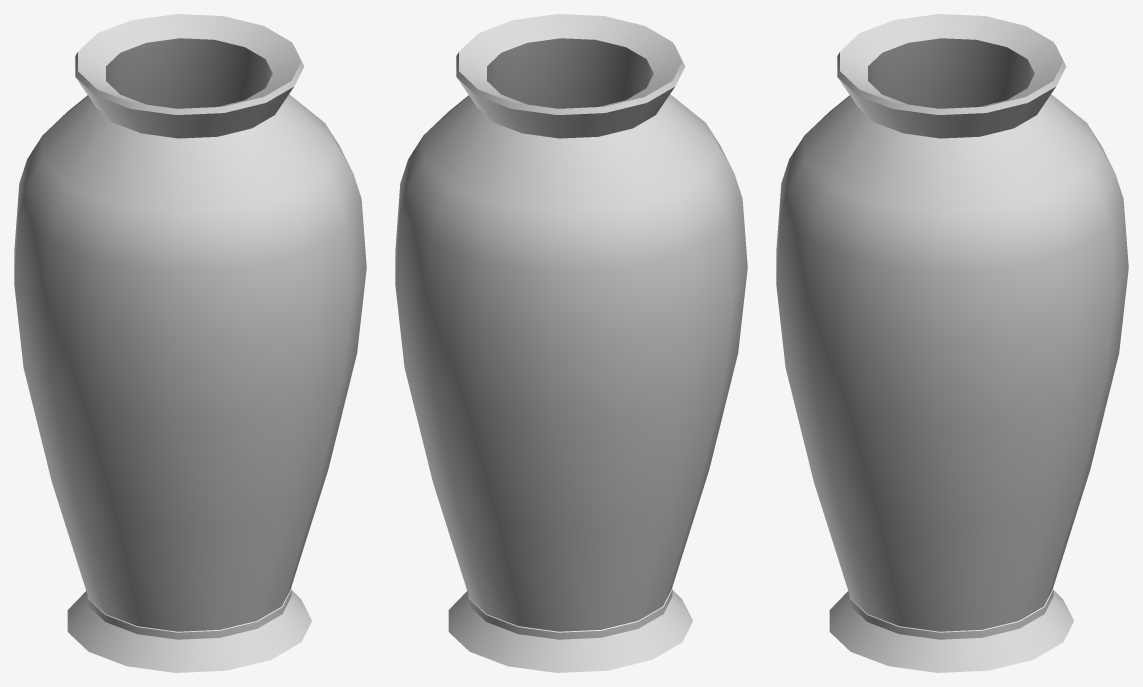
Rendered from Jarron.fbx.
3 renders of one model, left to right at view 1: azimuth 30°, elevation 25°; view 2: azimuth 150°, elevation 25°; view 3: azimuth 270°, elevation 25°, orthographic.
Visible parts, largest first — view 1: Cylinder; view 2: Cylinder; view 3: Cylinder.
Part boxes in pixels (box(x1,y1,x2,y2)): Cylinder: box(14, 14, 366, 672); Cylinder: box(395, 14, 747, 672); Cylinder: box(776, 14, 1128, 672).
Size of the model in its own units: 77.8 by 136 by 77.38.
3 materials, 1 textured.
